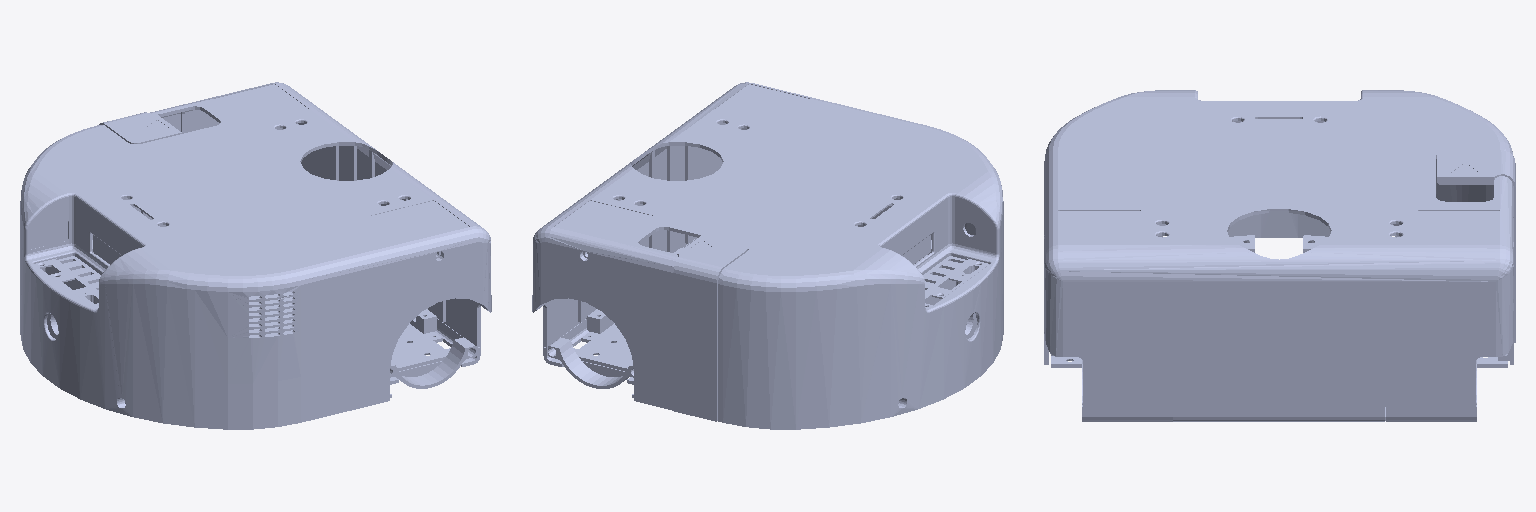
URDF robot description (stretch_description):
<?xml version="1.0"?>
<robot name="stretch_description" version="1.0">
  <link name="link_gripper">
    <inertial>
      <origin xyz="-0.0170229132730066 0.0131410320934285 -0.0371614759484659" rpy="0.0 0.0 0.0"/>
      <mass value="0.101902711393094"/>
      <inertia ixx="0.001" ixy="0.0" ixz="0.0" iyy="0.001" iyz="0.0" izz="0.001"/>
    </inertial>
    <visual>
      <origin xyz="0.0 0.0 0.0" rpy="0.0 0.0 0.0"/>
      <geometry>
        <mesh filename="./meshes/link_gripper.STL"/>
      </geometry>
      <material name="">
        <color rgba="0.792156862745098 0.819607843137255 0.933333333333333 1.0"/>
      </material>
    </visual>
    <collision>
      <origin xyz="0.0 0.0 0.0" rpy="0.0 0.0 0.0"/>
      <geometry>
        <mesh filename="./meshes/link_gripper.STL"/>
      </geometry>
    </collision>
  </link>
  <joint name="joint_gripper" type="fixed">
    <origin xyz="0.0 0.0 0.0" rpy="3.14159 0.0 -1.5708"/>
    <axis xyz="0.0 0.0 0.0"/>
    <parent link="link_wrist_yaw"/>
    <child link="link_gripper"/>
  </joint>
  <link name="link_gripper_finger_left">
    <inertial>
      <origin xyz="0.0945047483510102 0.0124301080924361 -4.44089209850063e-16" rpy="0.0 0.0 0.0"/>
      <mass value="0.0476207785199474"/>
      <inertia ixx="0.001" ixy="0.0" ixz="0.0" iyy="0.001" iyz="0.0" izz="0.001"/>
    </inertial>
    <visual>
      <origin xyz="0.0 0.0 0.0" rpy="0.0 0.0 0.0"/>
      <geometry>
        <mesh filename="./meshes/link_gripper_finger_left.STL" scale="0.9 1.0 1.0"/>
      </geometry>
      <material name="">
        <color rgba="0.792156862745098 0.819607843137255 0.933333333333333 1.0"/>
      </material>
    </visual>
    <collision>
      <origin xyz="0.0 0.0 0.0" rpy="0.0 0.0 0.0"/>
      <geometry>
        <mesh filename="./meshes/link_gripper_finger_left.STL" scale="0.9 1.0 1.0"/>
      </geometry>
    </collision>
  </link>
  <joint name="joint_gripper_finger_left" type="revolute">
    <origin xyz="-0.047231 -0.010151 -0.04679" rpy="2.1762e-15 0.5236 3.1416"/>
    <axis xyz="0.0 0.0 1.0"/>
    <parent link="link_gripper"/>
    <child link="link_gripper_finger_left"/>
    <limit effort="100.0" lower="-0.6" upper="0.6" velocity="1.0"/>
  </joint>
  

  <link name="link_gripper_finger_right">
    <inertial>
      <origin xyz="-0.0945047483510099 -0.0124301080924345 0.0" rpy="0.0 0.0 0.0"/>
      <mass value="0.0476207785199481"/>
      <inertia ixx="0.001" ixy="0.0" ixz="0.0" iyy="0.001" iyz="0.0" izz="0.001"/>
    </inertial>
    <visual>
      <origin xyz="0.0 0.0 0.0" rpy="0.0 0.0 0.0"/>
      <geometry>
        <mesh filename="./meshes/link_gripper_finger_right.STL" scale="0.9 1.0 1.0"/>
      </geometry>
      <material name="">
        <color rgba="0.792156862745098 0.819607843137255 0.933333333333333 1.0"/>
      </material>
    </visual>
    <collision>
      <origin xyz="0.0 0.0 0.0" rpy="0.0 0.0 0.0"/>
      <geometry>
        <mesh filename="./meshes/link_gripper_finger_right.STL" scale="0.9 1.0 1.0"/>
      </geometry>
    </collision>
  </link>
  <joint name="joint_gripper_finger_right" type="revolute">
    <origin xyz="-0.047231 0.010049 -0.04679" rpy="3.1416 -0.5236 1.2943e-15"/>
    <axis xyz="0.0 0.0 1.0"/>
    <parent link="link_gripper"/>
    <child link="link_gripper_finger_right"/>
    <limit effort="100.0" lower="-0.6" upper="0.6" velocity="1.0"/>
  </joint>


  <link name="link_grasp_center"/>
  <joint name="joint_grasp_center" type="fixed">
    <origin xyz="-0.205478 0.0 -0.138154" rpy="0.0 0.0 3.141579"/>
    <parent link="link_gripper"/>
    <child link="link_grasp_center"/>
  </joint>
  <link name="base_link">
    <inertial>
      <origin xyz="-0.109461304328163 -0.000741018909047708 0.0914915269429946" rpy="0.0 0.0 0.0"/>
      <mass value="1.0723782659782"/>
      <inertia ixx="0.00310580907710135" ixy="1.5182848191076e-06" ixz="0.00041690466732394" iyy="0.00433798719991832" iyz="1.33487716258445e-05" izz="0.0037204727467362"/>
    </inertial>
    <visual>
      <origin xyz="0.0 0.0 0.0" rpy="0.0 0.0 0.0"/>
      <geometry>
        <mesh filename="./meshes/base_link.STL"/>
      </geometry>
      <material name="">
        <color rgba="0.792156862745098 0.819607843137255 0.933333333333333 1.0"/>
      </material>
    </visual>
    <collision>
      <origin xyz="0.0 0.0 0.0" rpy="0.0 0.0 0.0"/>
      <geometry>
        <mesh filename="./meshes/base_link.STL"/>
      </geometry>
    </collision>
  </link>

  <!-- <link name="rotation_link"/>
  <link name="translation_link"/>

  <joint name="rotation_z" type="continuous">
    <parent link="rotation_link"/>
    <child link="base_link"/>
    <axis xyz="0 0 1"/>
    <origin xyz="0 0 0"/>
  </joint>

  <joint name="base_x" type="prismatic">
    <parent link="translation_link"/>
    <child link="rotation_link"/>
    <origin rpy="0 0 0" xyz="0.0 0 0"/>
  </joint> -->

  <link name="link_mast">
    <inertial>
      <origin xyz="0.00755818572975822 0.773971284176834 0.00647313086620024" rpy="0.0 0.0 0.0"/>
      <mass value="0.749143203376401"/>
      <inertia ixx="0.0709854511954588" ixy="-0.00433428742758457" ixz="-0.000186110788697573" iyy="0.000437922053342648" iyz="-0.00288788257713431" izz="0.071104808501661"/>
    </inertial>
    <visual>
      <origin xyz="0.0 0.0 0.0" rpy="0.0 0.0 0.0"/>
      <geometry>
        <mesh filename="./meshes/link_mast.STL"/>
      </geometry>
      <material name="">
        <color rgba="0.792156862745098 0.819607843137255 0.933333333333333 1.0"/>
      </material>
    </visual>
    <collision>
      <origin xyz="0.0 0.0 0.0" rpy="0.0 0.0 0.0"/>
      <geometry>
        <mesh filename="./meshes/link_mast.STL"/>
      </geometry>
    </collision>
  </link>
  <joint name="joint_mast" type="fixed">
    <origin xyz="-0.07057126394756678 0.13691248843685422 0.02989592422346311" rpy="1.5703069173654036 -0.0003409394486499906 0.03051140696501238"/>
    <axis xyz="0.0 0.0 0.0"/>
    <parent link="base_link"/>
    <child link="link_mast"/>
  </joint>
  <link name="link_lift">
    <inertial>
      <origin xyz="-0.0547636346252869 0.0380939689802074 0.00933159404448308" rpy="0.0 0.0 0.0"/>
      <mass value="0.444820831236007"/>
      <inertia ixx="0.000567192946271367" ixy="-0.00024607534789508" ixz="-0.000128108442260574" iyy="0.00127108364478659" iyz="7.61916855070339e-06" izz="0.00137296635099006"/>
    </inertial>
    <visual>
      <origin xyz="0.0 0.0 0.0" rpy="0.0 0.0 0.0"/>
      <geometry>
        <mesh filename="./meshes/link_lift.STL"/>
      </geometry>
      <material name="">
        <color rgba="0.792156862745098 0.819607843137255 0.933333333333333 1.0"/>
      </material>
    </visual>
    <collision>
      <origin xyz="0.0 0.0 0.0" rpy="0.0 0.0 0.0"/>
      <geometry>
        <mesh filename="./meshes/link_lift.STL"/>
      </geometry>
    </collision>
  </link>
  <joint name="joint_lift" type="prismatic">
    <origin xyz="-0.0369217062323472 0.165471199999996 -0.000341653286793524" rpy="-1.57079632679552 1.5615431375292 -6.2942004366467e-13"/>
    <axis xyz="0.0 0.0 1.0"/>
    <parent link="link_mast"/>
    <child link="link_lift"/>
    <limit effort="100.0" lower="0.0" upper="1.1" velocity="1.0"/>
  </joint>
  <link name="link_arm_l4">
    <inertial>
      <origin xyz="-1.61247276464493e-06 1.54715589201215e-06 -0.0953252706040035" rpy="0.0 0.0 0.0"/>
      <mass value="0.0676525455789735"/>
      <inertia ixx="0.000122002023066796" ixy="7.29593356230121e-13" ixz="9.63170353371061e-09" iyy="0.000122002023127152" iyz="-9.24154949889042e-09" izz="1.46043439809638e-12"/>
    </inertial>
    <visual>
      <origin xyz="0.0 0.0 0.0" rpy="0.0 0.0 0.0"/>
      <geometry>
        <mesh filename="./meshes/link_arm_l4.STL"/>
      </geometry>
      <material name="">
        <color rgba="0.792156862745098 0.819607843137255 0.933333333333333 1.0"/>
      </material>
    </visual>
    <collision>
      <origin xyz="0.0 0.0 0.0" rpy="0.0 0.0 0.0"/>
      <geometry>
        <mesh filename="./meshes/link_arm_l4.STL"/>
      </geometry>
    </collision>
  </link>
  <joint name="joint_arm_l4" type="fixed">
    <origin xyz="-0.2537617766754081 0.004892738444271766 -0.0021480531707336894" rpy="1.5766170899658856 0.019386643126106717 -1.5976279017274067"/>
    <axis xyz="0.0 0.0 0.0"/>
    <parent link="link_lift"/>
    <child link="link_arm_l4"/>
  </joint>
  <link name="link_arm_l3">
    <inertial>
      <origin xyz="-3.34873468621488e-07 4.7411336306924e-07 -0.0974069598289041" rpy="0.0 0.0 0.0"/>
      <mass value="0.0626921047058405"/>
      <inertia ixx="0.001" ixy="0.0" ixz="0.0" iyy="0.001" iyz="0.0" izz="0.001"/>
    </inertial>
    <visual>
      <origin xyz="0.0 0.0 0.0" rpy="0.0 0.0 0.0"/>
      <geometry>
        <mesh filename="./meshes/link_arm_l3.STL"/>
      </geometry>
      <material name="">
        <color rgba="0.792156862745098 0.819607843137255 0.933333333333333 1.0"/>
      </material>
    </visual>
    <collision>
      <origin xyz="0.0 0.0 0.0" rpy="0.0 0.0 0.0"/>
      <geometry>
        <mesh filename="./meshes/link_arm_l3.STL"/>
      </geometry>
    </collision>
  </link>
  <joint name="joint_arm_l3" type="prismatic">
    <origin xyz="0.0 0.0 0.013" rpy="3.5742e-16 3.2123e-16 -2.4565e-16"/>
    <axis xyz="0.0 0.0 1.0"/>
    <parent link="link_arm_l4"/>
    <child link="link_arm_l3"/>
    <limit effort="100.0" lower="0.0" upper="0.13" velocity="1.0"/>
  </joint>
  <link name="link_arm_l2">
    <inertial>
      <origin xyz="-3.31043560508615e-07 3.13422303999111e-07 -0.097255883541891" rpy="0.0 0.0 0.0"/>
      <mass value="0.0569074368576238"/>
      <inertia ixx="0.001" ixy="0.0" ixz="0.0" iyy="0.001" iyz="0.0" izz="0.001"/>
    </inertial>
    <visual>
      <origin xyz="0.0 0.0 0.0" rpy="0.0 0.0 0.0"/>
      <geometry>
        <mesh filename="./meshes/link_arm_l2.STL"/>
      </geometry>
      <material name="">
        <color rgba="0.792156862745098 0.819607843137255 0.933333333333333 1.0"/>
      </material>
    </visual>
    <collision>
      <origin xyz="0.0 0.0 0.0" rpy="0.0 0.0 0.0"/>
      <geometry>
        <mesh filename="./meshes/link_arm_l2.STL"/>
      </geometry>
    </collision>
  </link>
  <joint name="joint_arm_l2" type="prismatic">
    <origin xyz="0.0 0.0 0.013" rpy="2.91385731014123e-16 4.44300759504684e-17 3.25691080516352e-16"/>
    <axis xyz="0.0 0.0 1.0"/>
    <parent link="link_arm_l3"/>
    <child link="link_arm_l2"/>
    <limit effort="100.0" lower="0.0" upper="0.13" velocity="1.0"/>
  </joint>
  <link name="link_arm_l1">
    <inertial>
      <origin xyz="-3.36876635420591e-07 3.05876091066803e-07 -0.0969117032232756" rpy="0.0 0.0 0.0"/>
      <mass value="0.0511763619538321"/>
      <inertia ixx="0.001" ixy="0.0" ixz="0.0" iyy="0.001" iyz="0.0" izz="0.001"/>
    </inertial>
    <visual>
      <origin xyz="0.0 0.0 0.0" rpy="0.0 0.0 0.0"/>
      <geometry>
        <mesh filename="./meshes/link_arm_l1.STL"/>
      </geometry>
      <material name="">
        <color rgba="0.792156862745098 0.819607843137255 0.933333333333333 1.0"/>
      </material>
    </visual>
    <collision>
      <origin xyz="0.0 0.0 0.0" rpy="0.0 0.0 0.0"/>
      <geometry>
        <mesh filename="./meshes/link_arm_l1.STL"/>
      </geometry>
    </collision>
  </link>
  <joint name="joint_arm_l1" type="prismatic">
    <origin xyz="0.0 0.0 0.013" rpy="7.41596560408007e-17 1.33876788296791e-16 -2.44545873596083e-16"/>
    <axis xyz="0.0 0.0 1.0"/>
    <parent link="link_arm_l2"/>
    <child link="link_arm_l1"/>
    <limit effort="100.0" lower="0.0" upper="0.13" velocity="1.0"/>
  </joint>
  <link name="link_arm_l0">
    <inertial>
      <origin xyz="0.0230715049668191 -0.00195115833662818 -0.0360646347160285" rpy="0.0 0.0 0.0"/>
      <mass value="0.101241250325294"/>
      <inertia ixx="0.001" ixy="0.0" ixz="0.0" iyy="0.001" iyz="0.0" izz="0.001"/>
    </inertial>
    <visual>
      <origin xyz="0.0 0.0 0.0" rpy="0.0 0.0 0.0"/>
      <geometry>
        <mesh filename="./meshes/link_arm_l0.STL"/>
      </geometry>
      <material name="">
        <color rgba="0.792156862745098 0.819607843137255 0.933333333333333 1.0"/>
      </material>
    </visual>
    <collision>
      <origin xyz="0.0 0.0 0.0" rpy="0.0 0.0 0.0"/>
      <geometry>
        <mesh filename="./meshes/link_arm_l0.STL"/>
      </geometry>
    </collision>
  </link>
  <joint name="joint_arm_l0" type="prismatic">
    <origin xyz="0.0 0.0 -0.0137499999999938" rpy="-3.05317390622457e-16 -4.23236224076729e-16 -2.68425135229209e-17"/>
    <axis xyz="0.0 0.0 1.0"/>
    <parent link="link_arm_l1"/>
    <child link="link_arm_l0"/>
    <limit effort="100.0" lower="0.0" upper="0.13" velocity="1.0"/>
  </joint>
  <link name="link_wrist_yaw">
    <inertial>
      <origin xyz="-8.02795716750571e-06 1.93811447768422e-05 0.018946700595851" rpy="0.0 0.0 0.0"/>
      <mass value="0.0405398981326229"/>
      <inertia ixx="0.001" ixy="0.0" ixz="0.0" iyy="0.001" iyz="0.0" izz="0.001"/>
    </inertial>
    <visual>
      <origin xyz="0.0 0.0 0.0" rpy="0.0 0.0 0.0"/>
      <geometry>
        <mesh filename="./meshes/link_wrist_yaw.STL"/>
      </geometry>
      <material name="">
        <color rgba="0.792156862745098 0.819607843137255 0.933333333333333 1.0"/>
      </material>
    </visual>
    <collision>
      <origin xyz="0.0 0.0 0.0" rpy="0.0 0.0 0.0"/>
      <geometry>
        <mesh filename="./meshes/link_wrist_yaw.STL"/>
      </geometry>
    </collision>
  </link>
  <joint name="joint_wrist_yaw" type="revolute">
    <origin xyz="0.083 -0.03075 0.0" rpy="1.5708 4.2595e-14 2.6415e-15"/>
    <axis xyz="0.0 0.0 -1.0"/>
    <parent link="link_arm_l0"/>
    <child link="link_wrist_yaw"/>
    <limit effort="100.0" lower="-1.75" upper="4.0" velocity="1.0"/>
  </joint>


</robot>

--- Facts derived from the render (not from the file) ---
3 views of the same robot in one strip: view 1: azimuth 30°, elevation 25°; view 2: azimuth 150°, elevation 25°; view 3: azimuth 270°, elevation 25° (orthographic).
Robot: stretch_description — 13 links, 12 joints (3 revolute, 5 prismatic, 4 fixed); root link base_link; default pose: all joints at 0.
Visible links, largest first — view 1: base_link; view 2: base_link; view 3: base_link.
Link boxes in pixels (x1=…): base_link: x1=20, y1=82, x2=491, y2=429; base_link: x1=532, y1=82, x2=1003, y2=429; base_link: x1=1044, y1=90, x2=1515, y2=421.
Size in the robot's own frame: 0.325 by 0.342 by 0.1473 metres.
1 mesh visuals loaded from 12 distinct referenced files (1 binary STL); not drawn: 11 (reference not matched to a file when rendering).